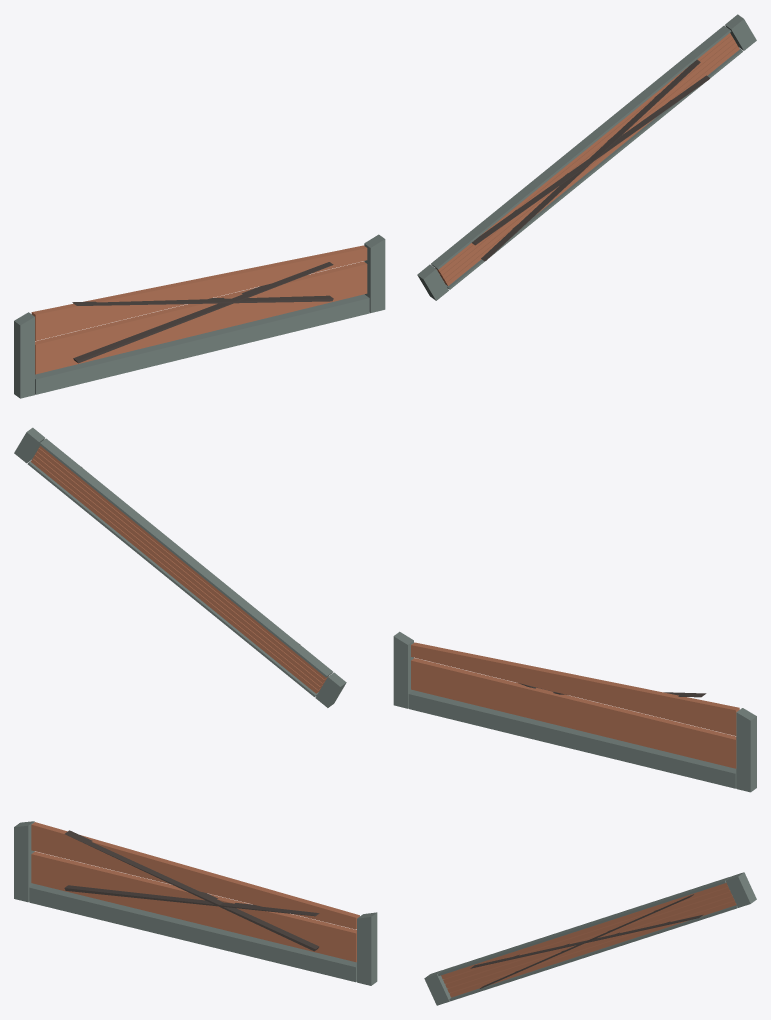
File: SM_PuertaVehiculos_v2_Tablones_e2_MuyDanado_LOD1.fbx
3 renders of one model, top to bottom at view 1: azimuth 30°, elevation 25°; view 2: azimuth 150°, elevation 25°; view 3: azimuth 330°, elevation 25°, orthographic. The views are drawn at different scales.
Parts seen in each view (by area): view 1: Hoja_O, Hoja_E; view 2: Hoja_O, Hoja_E; view 3: Hoja_O, Hoja_E.
Boxes of the visible parts, box(x1,y1,x2,y2) form: Hoja_O: box(14, 234, 385, 398); Hoja_E: box(417, 14, 756, 300); Hoja_O: box(393, 631, 756, 792); Hoja_E: box(14, 427, 346, 707); Hoja_O: box(14, 821, 377, 985); Hoja_E: box(424, 872, 756, 1005).
Size of what is drawn, in the model's own units: 8.12 by 2.16 by 0.32.
